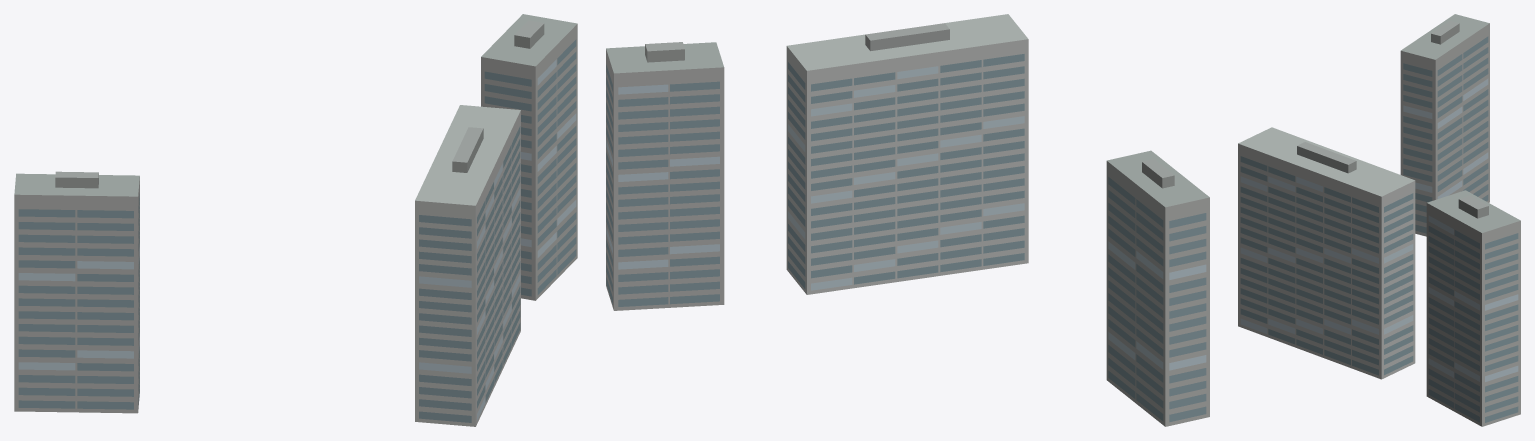
The model's file is apt-a13989702.glb.
3 renders of one model, left to right at view 1: azimuth 30°, elevation 25°; view 2: azimuth 150°, elevation 25°; view 3: azimuth 270°, elevation 25°, orthographic. The views are drawn at different scales.
Parts seen in each view (by area): view 1: apt-a13989702; view 2: apt-a13989702; view 3: apt-a13989702.
Boxes of the visible parts, x1,y1,x2,y2 form: apt-a13989702: [14, 14, 577, 426]; apt-a13989702: [606, 14, 1209, 426]; apt-a13989702: [1238, 14, 1520, 426].
Size of the model in its own units: 131 by 53 by 66.97.
